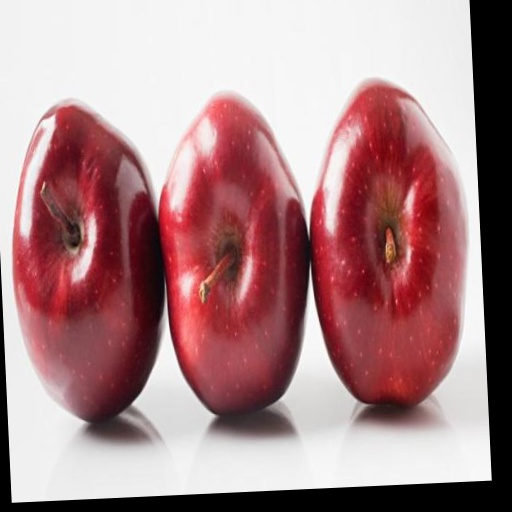fruit: (311, 81, 467, 404), (13, 102, 163, 421), (159, 95, 309, 414)
